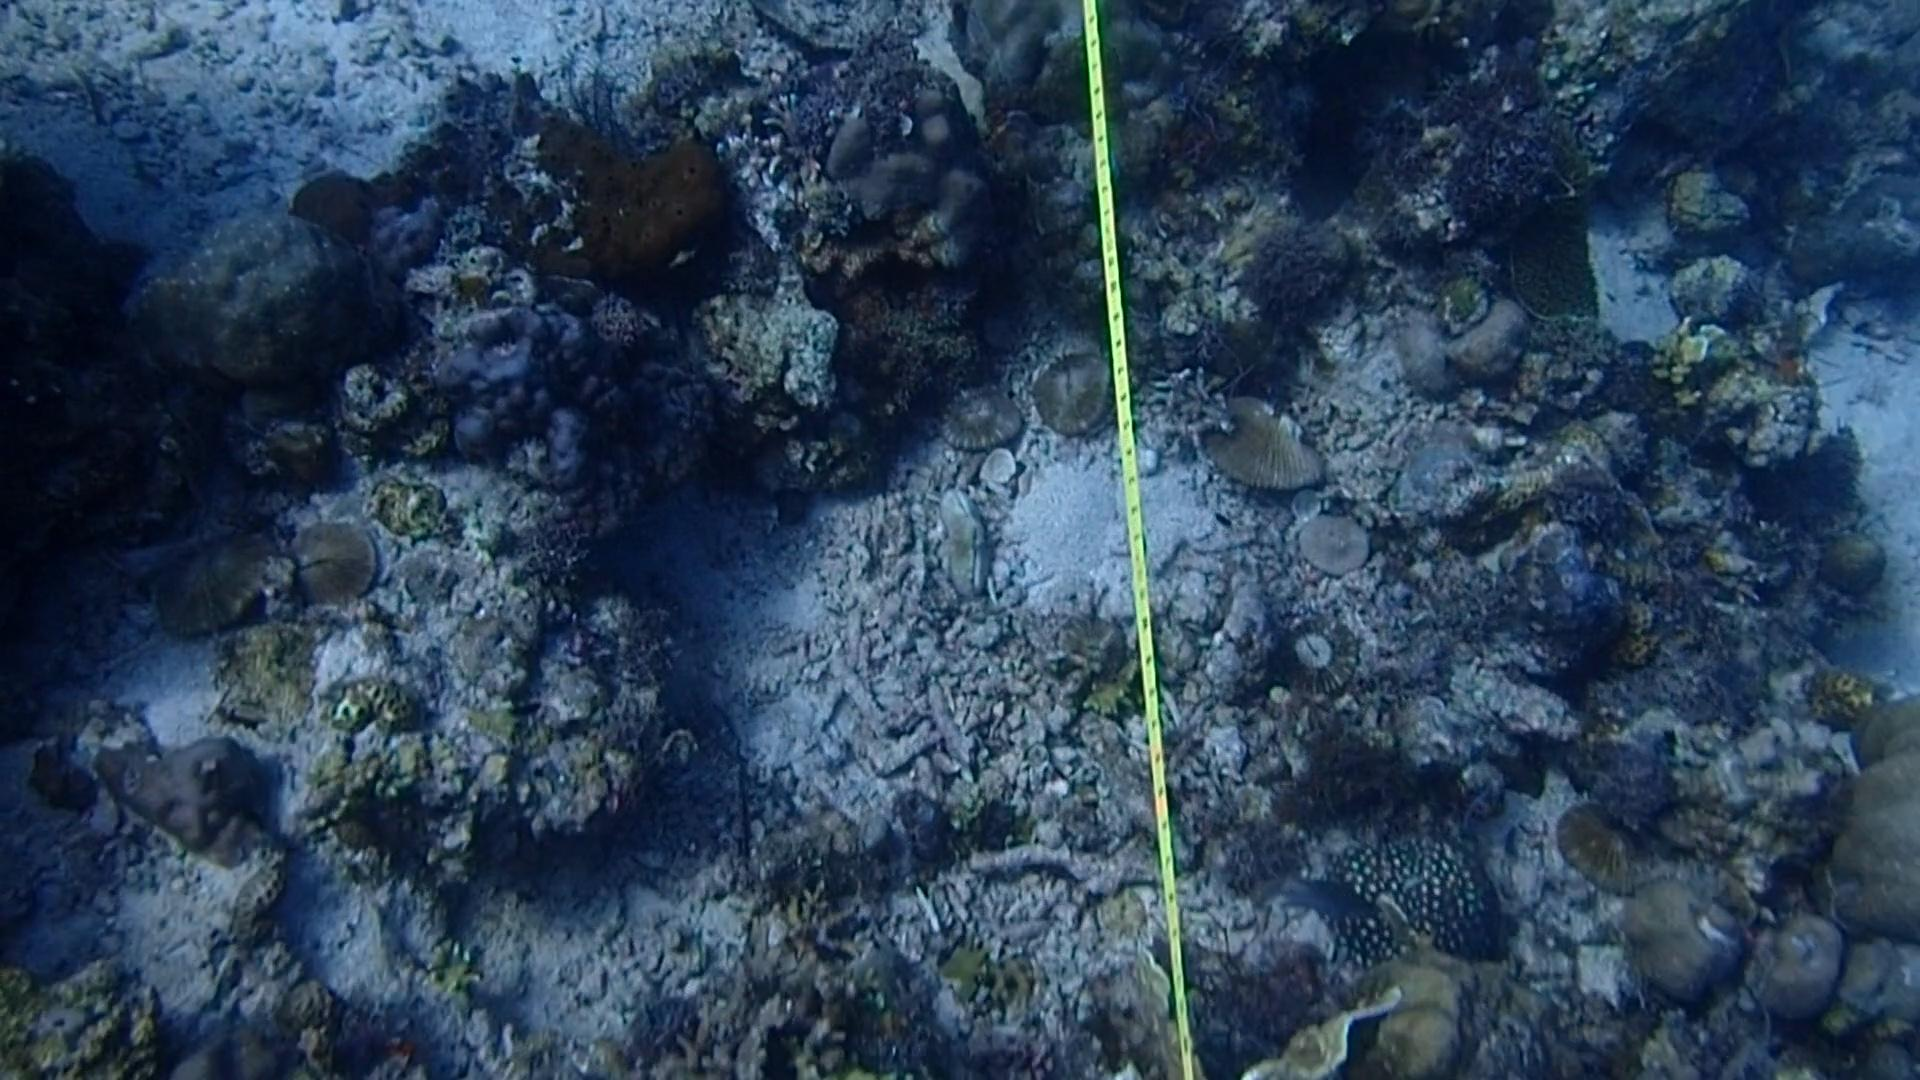Light Fish: (1266, 865, 1389, 936)
